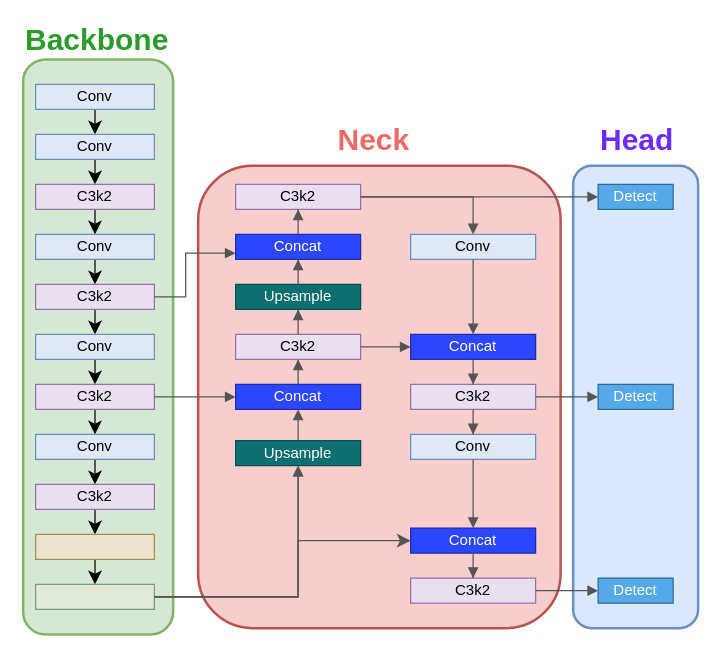
Some shapes in this 720 by 656 pixel diagram are drawn without their labels. Each missing label, with the centre of its shape:
"C2PSA" belongs at point 94,596.
"SPPF" belongs at point 94,546.
